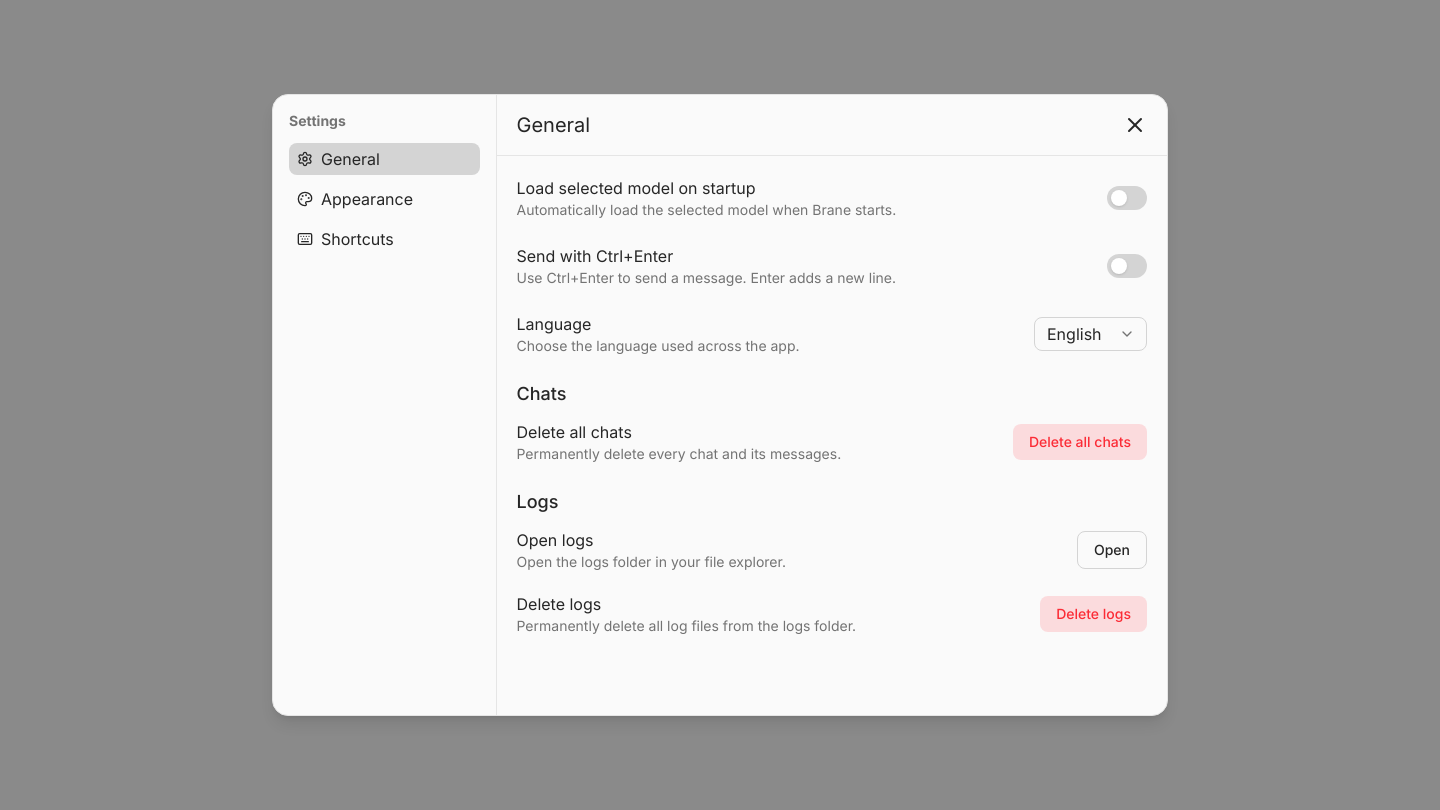
Test case: SettingsModal › reports a statistics preference that could not be saved
The width and height of the screenshot is (1440, 810).
Step 1. Click the tab "Appearance" → {"x": 384, "y": 199}, box [289,183,480,215]
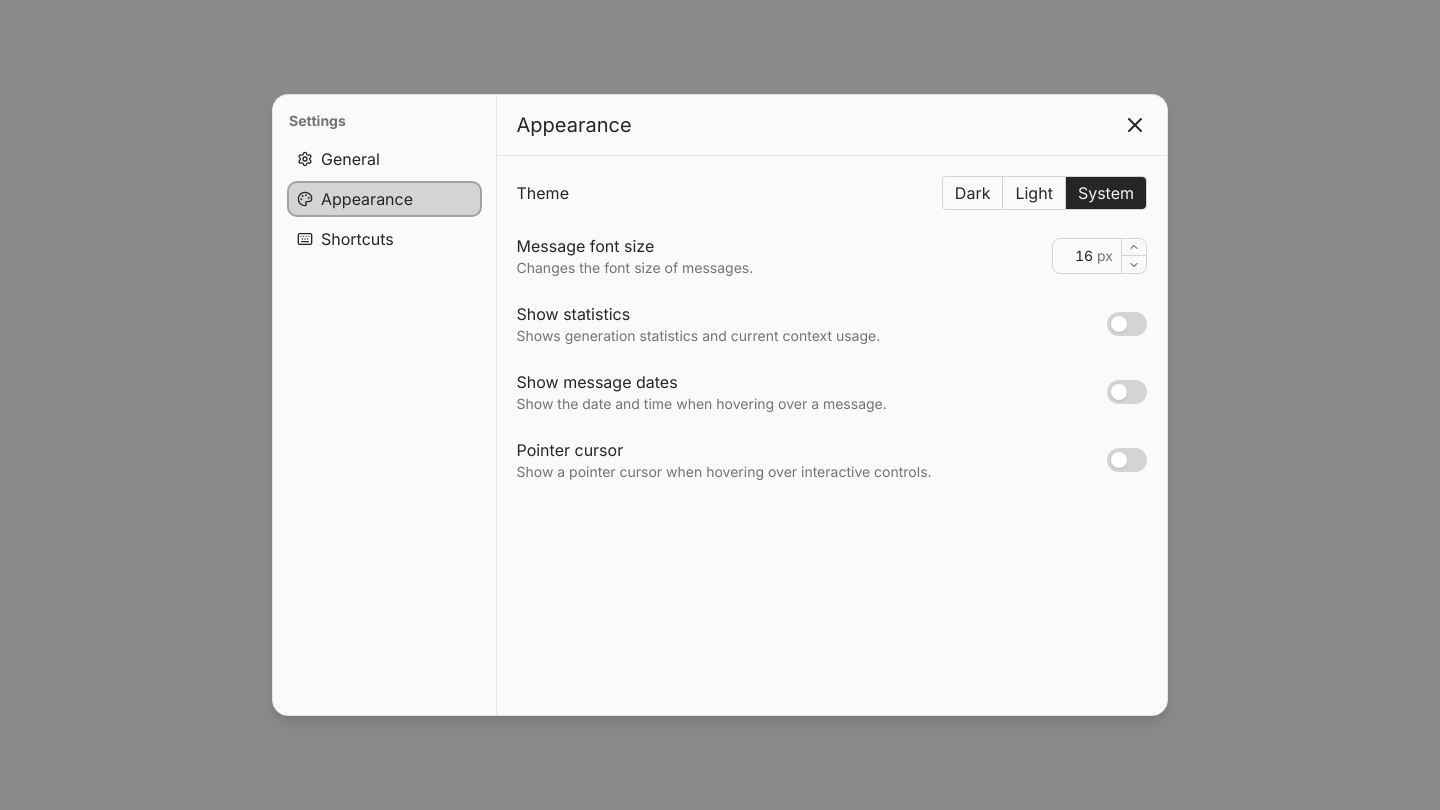
Step 2. Click the switch named "Show statistics" in the row of "Show statistics" → {"x": 1127, "y": 324}, box [1107,312,1147,336]
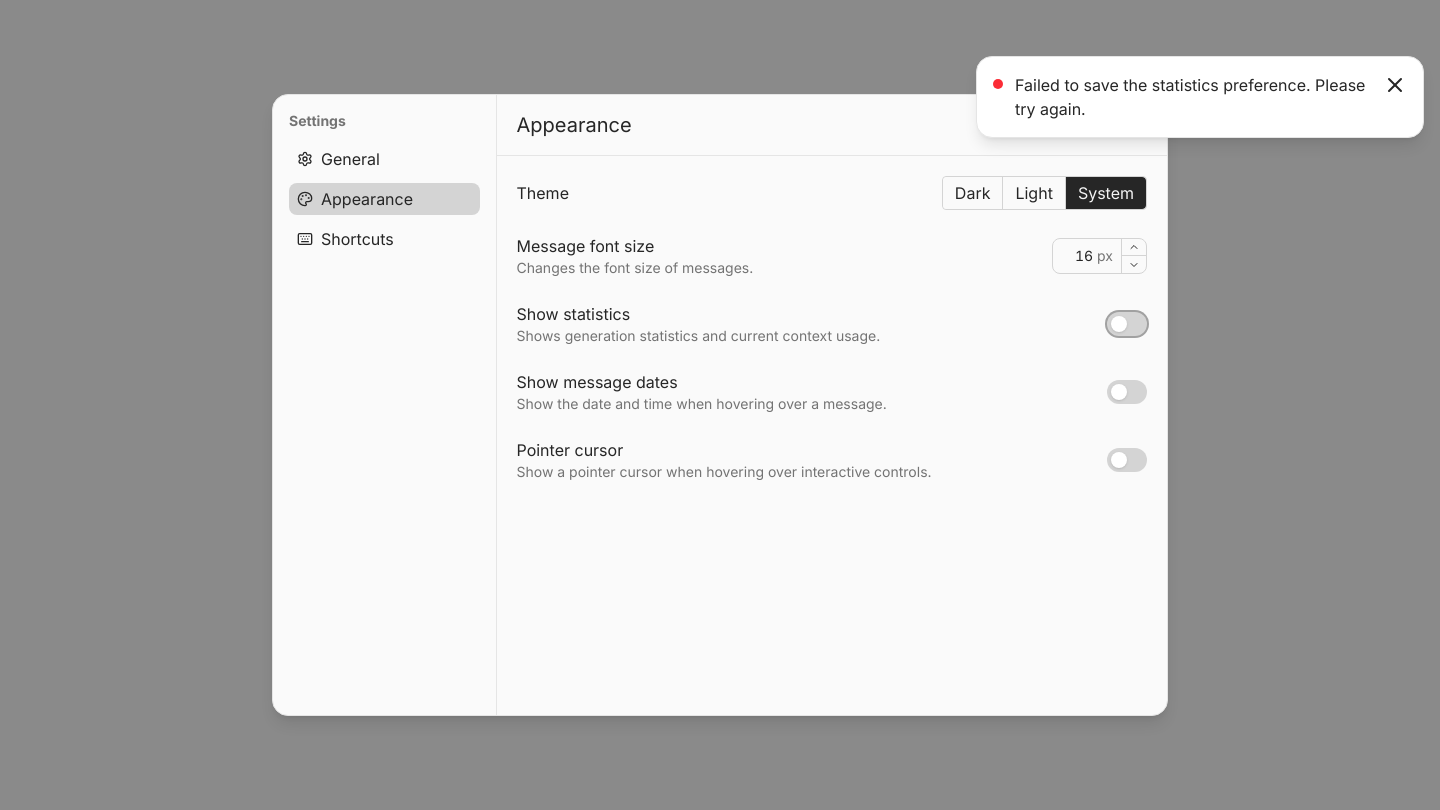
Expected: the message reads "Failed to save the statistics preference. Please try again.", [1015,75,1370,119]
